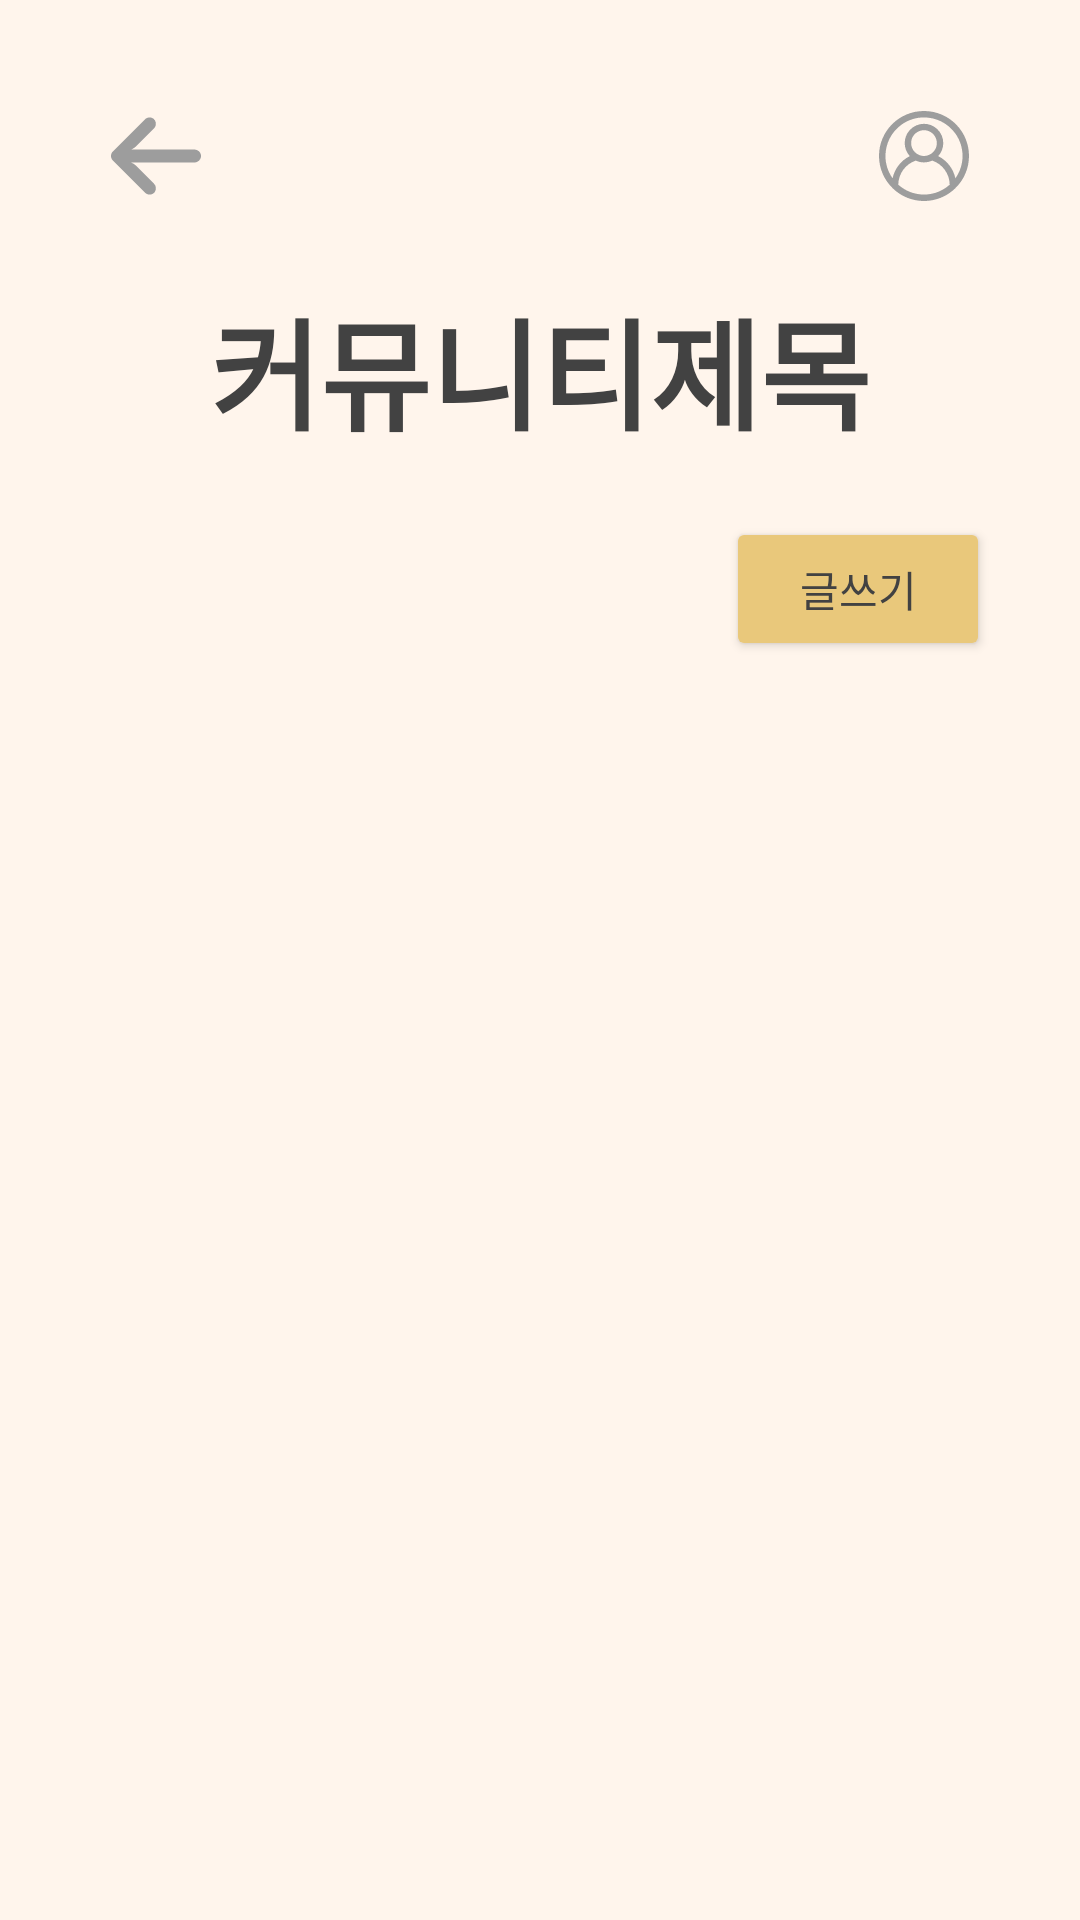

Locate icon controls on the screen. Image size 1080x1920, boxes as {"x1": x1, "y1": y1, "x2": x2, "y2": y2}.
left arrow: {"x1": 111, "y1": 117, "x2": 201, "y2": 195}
